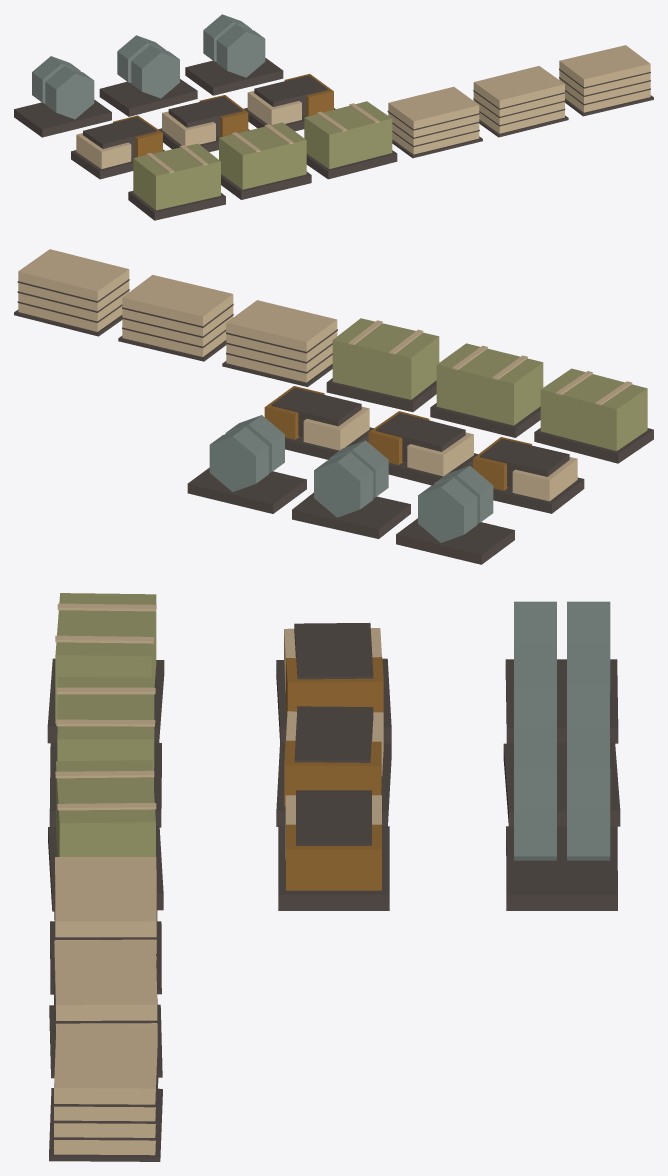
Rendered from SM_AcopioMateriales_v1_Mitad_LOD1.fbx.
3 renders of one model, top to bottom at view 1: azimuth 30°, elevation 25°; view 2: azimuth 150°, elevation 25°; view 3: azimuth 270°, elevation 25°, orthographic. The views are drawn at different scales.
Parts seen in each view (by area): view 1: SM_acopio_carga_v11_LOD1; view 2: SM_acopio_carga_v11_LOD1; view 3: SM_acopio_carga_v11_LOD1.
Part boxes in pixels (x1=…): SM_acopio_carga_v11_LOD1: x1=14, y1=14, x2=653, y2=220; SM_acopio_carga_v11_LOD1: x1=14, y1=249, x2=653, y2=564; SM_acopio_carga_v11_LOD1: x1=47, y1=593, x2=620, y2=1161.
Bounding box in the file's own units: 9.1 × 0.94 × 4.52.
